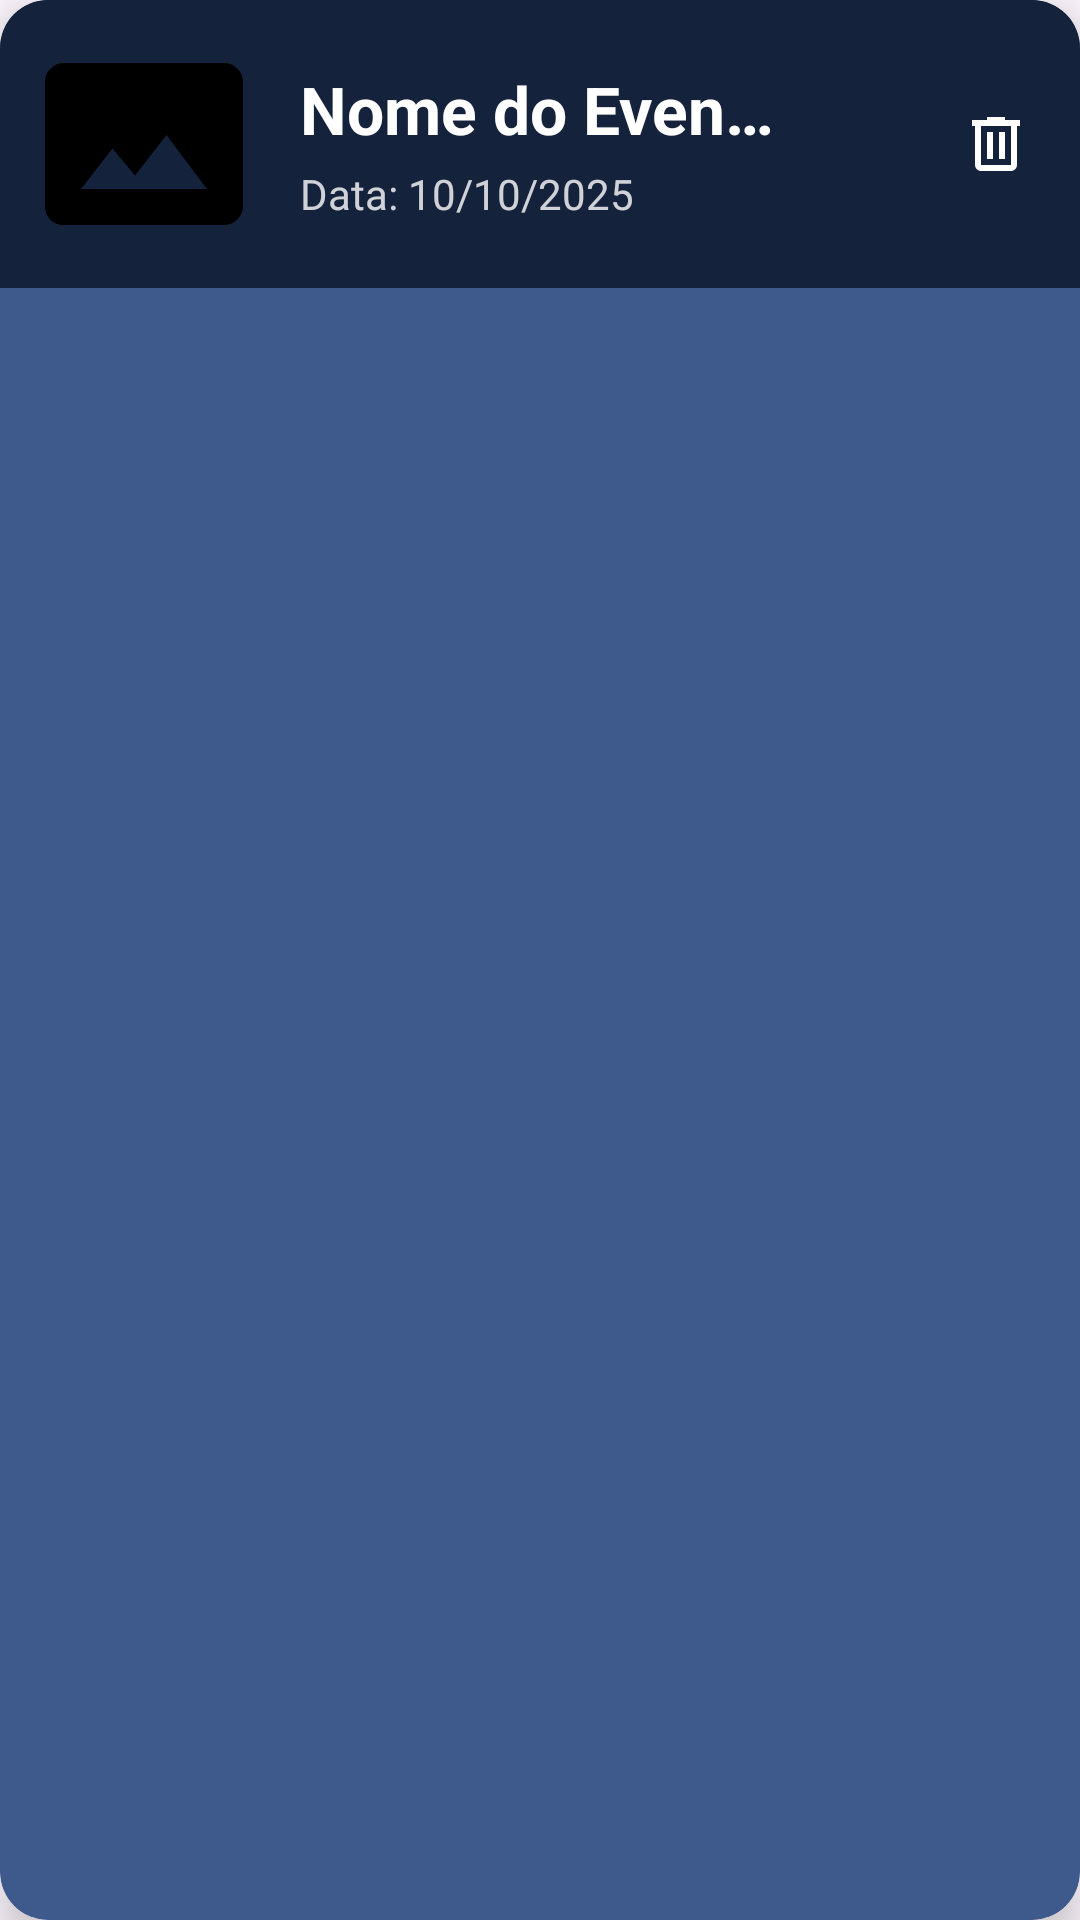

Point at icon controls on the screen. Image size 1080×1920, points as (x,y).
Excluir Evento: (996,144)
